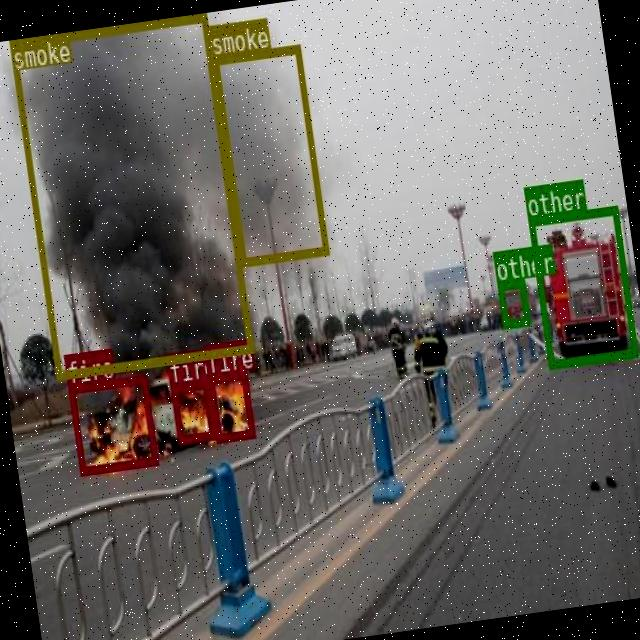fire: (66, 374, 158, 474), (207, 368, 255, 441), (170, 379, 216, 443)
smoke: (8, 12, 254, 378), (210, 44, 328, 266)
